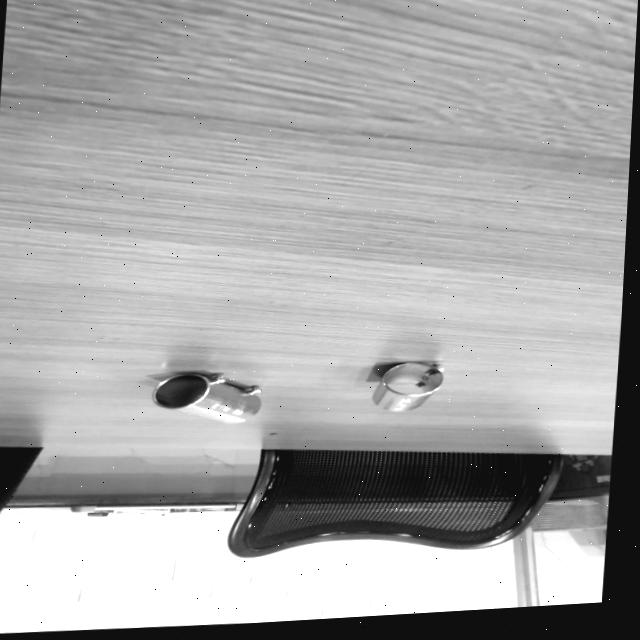Co_Lon: (150, 362, 264, 429)
Co_Nho: (371, 358, 443, 413)
